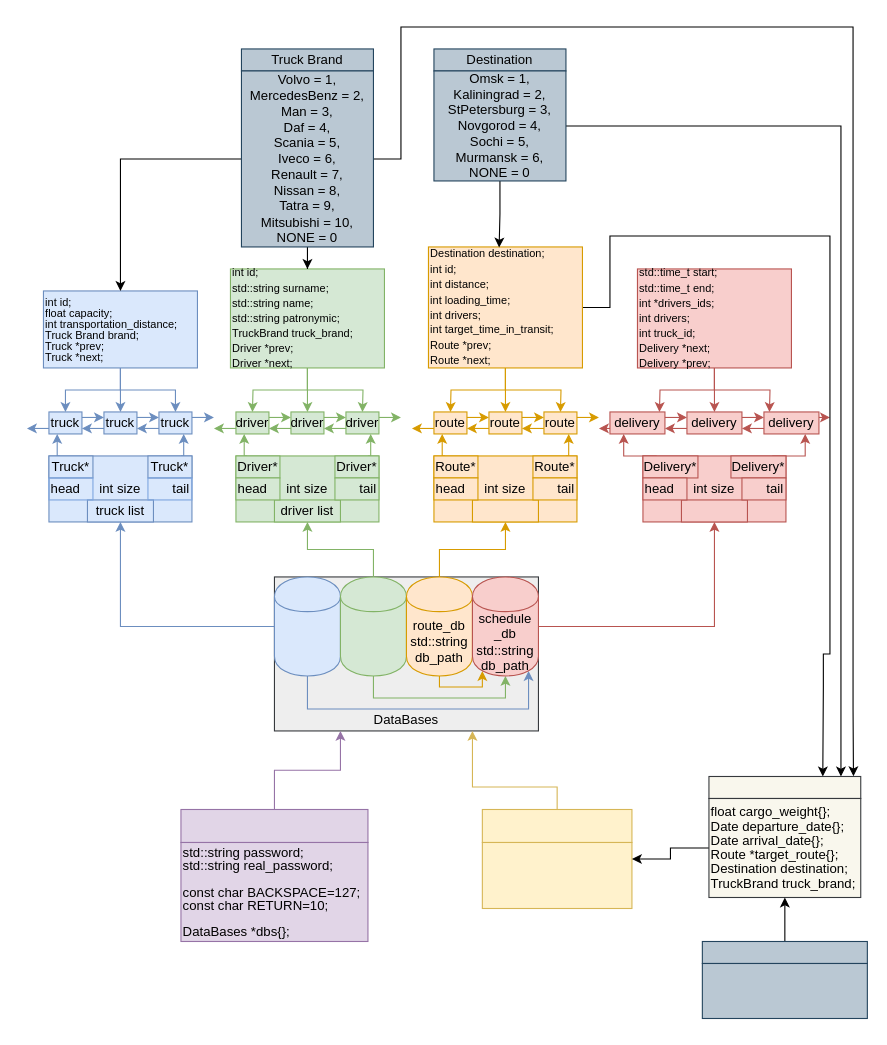
Image size: 887x1045. Some labels were removed from this diagram. Here are the shapes that lost their labels. From the top down, the box of each, then its label:
(471, 499, 538, 522): route list
(680, 499, 747, 522): schedule
(273, 576, 340, 676): truck_db std::string db_path
(339, 576, 406, 676): driver_db std::string db_path
(708, 775, 861, 798): Request
(180, 808, 368, 842): Administrator console
(481, 808, 632, 842): Request handler
(481, 841, 632, 908): Request request; std::string request_path; DataBases *dbs;
(701, 940, 867, 963): Date
(701, 962, 867, 1018): std::string default_format{}; std::tm *date{}; std::time_t time{};
